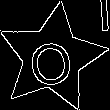O_N: (27, 29, 78, 87)
